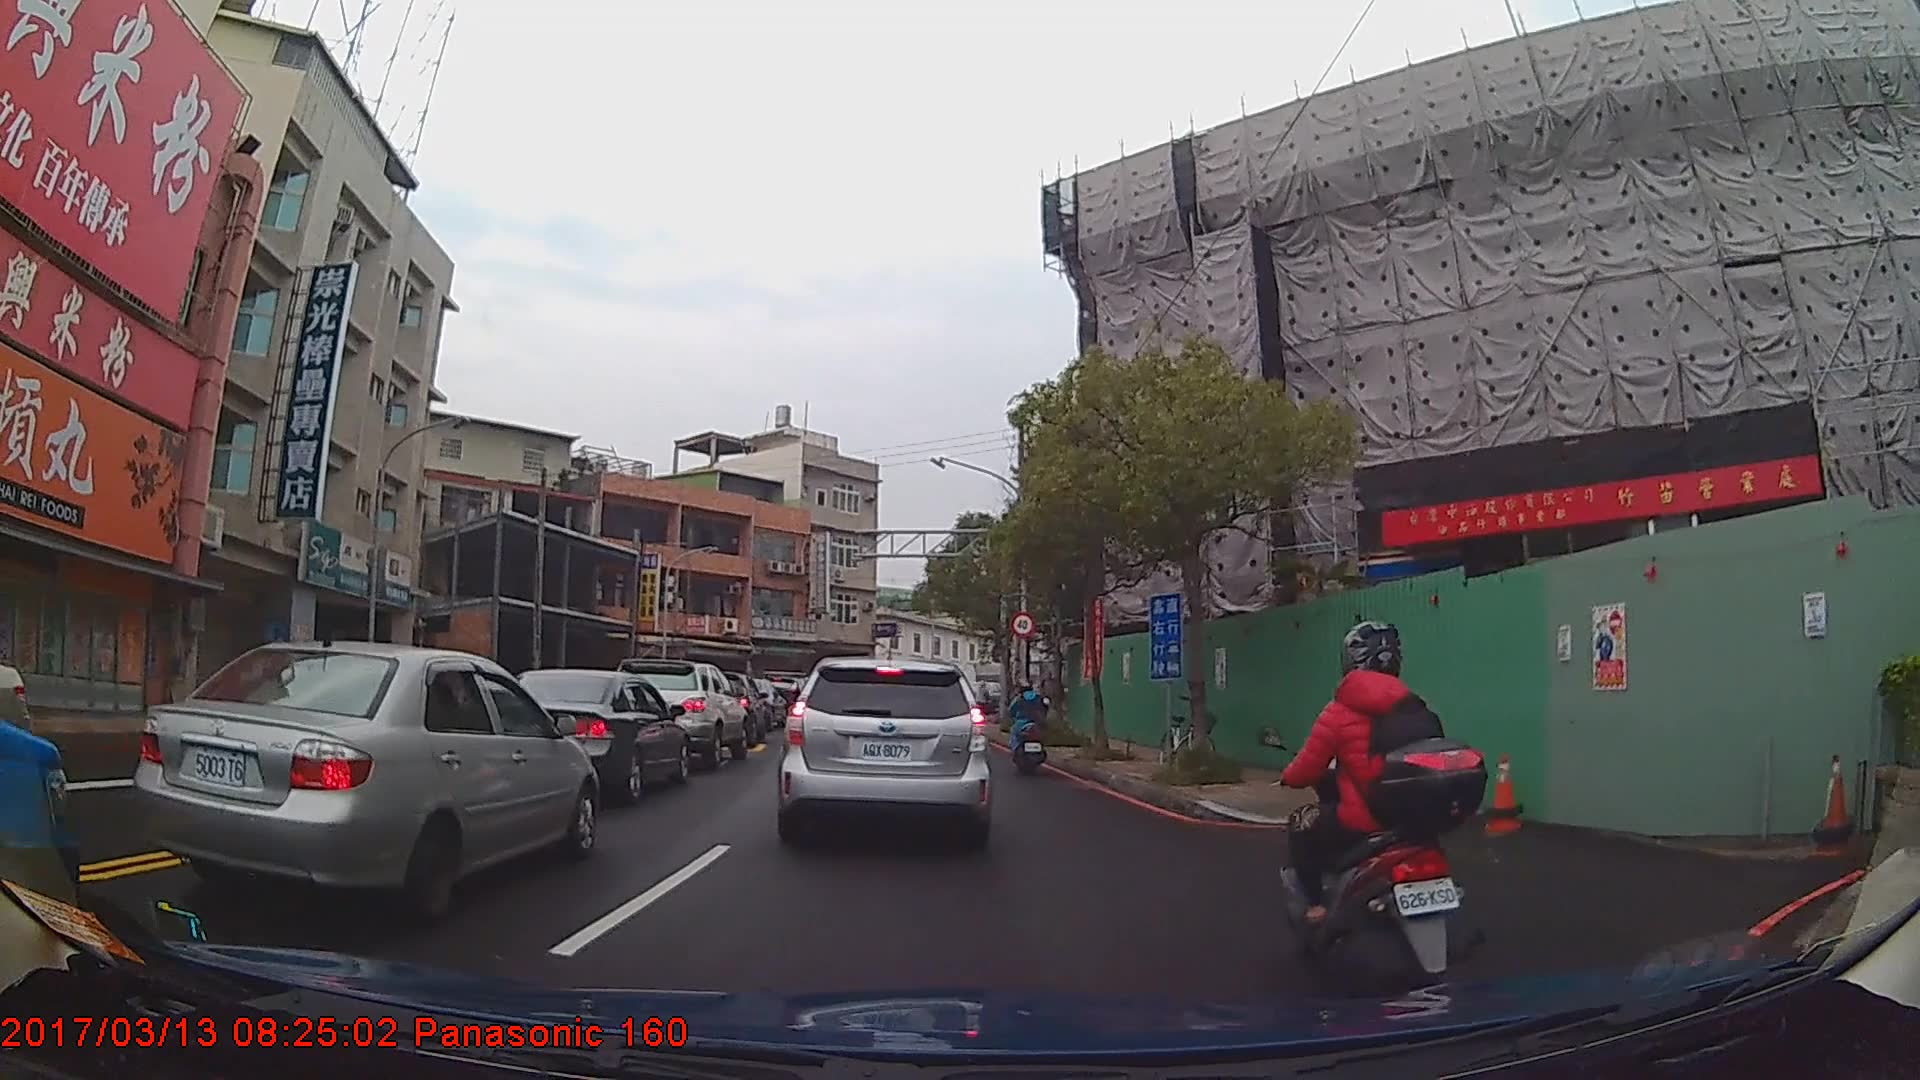rider: (1264, 617, 1488, 1009), (1001, 681, 1050, 778)
vehicle: (129, 640, 604, 925), (776, 656, 992, 850), (489, 667, 690, 805), (609, 656, 748, 768)
